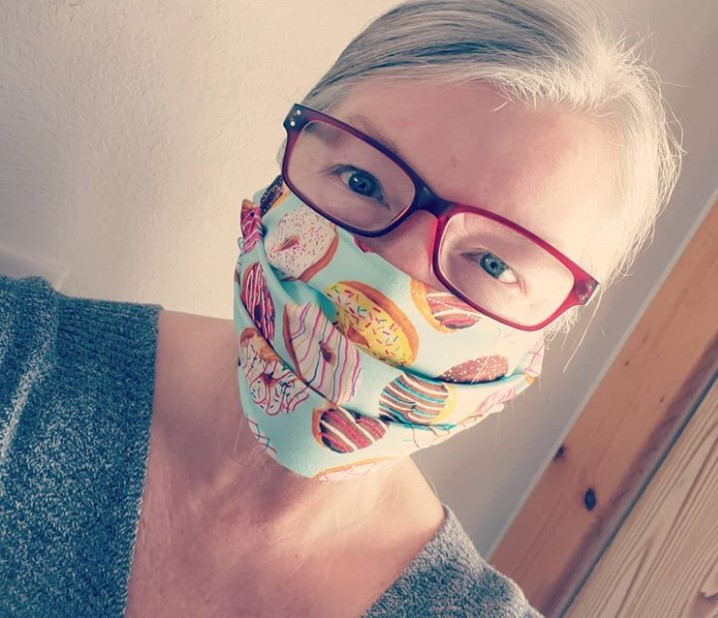face_with_mask: (225, 7, 685, 481)
